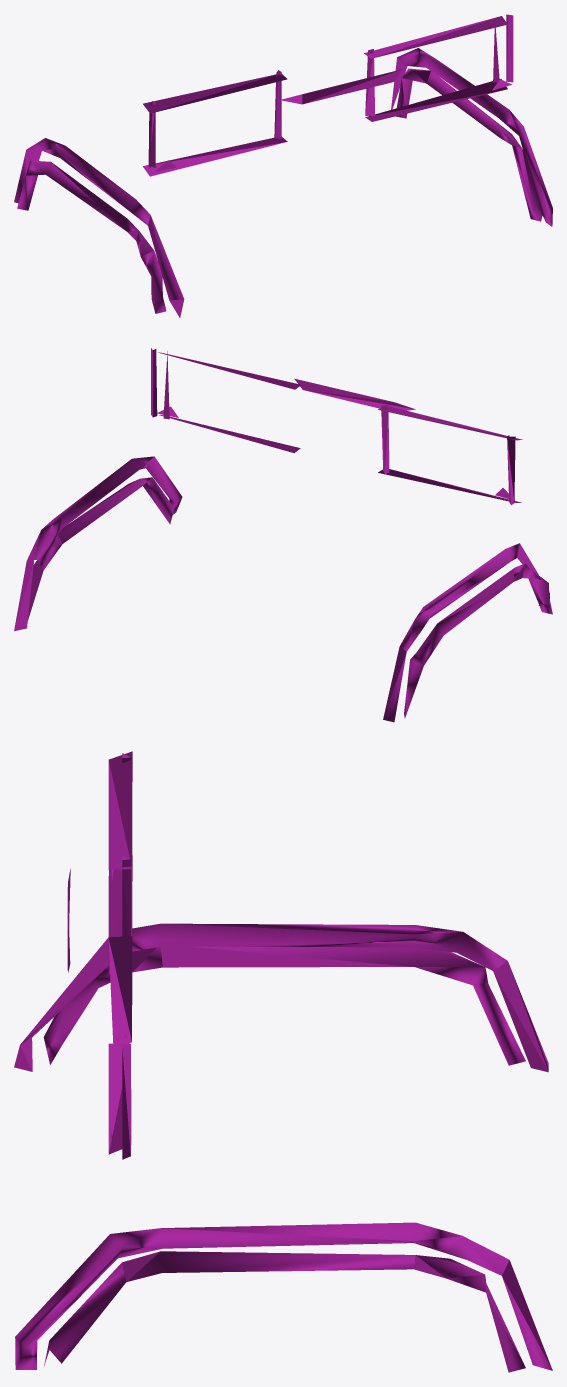
File: backdrop_top_c_lod2.glb
3 renders of one model, top to bottom at view 1: azimuth 30°, elevation 25°; view 2: azimuth 150°, elevation 25°; view 3: azimuth 270°, elevation 25°, orthographic. The views are drawn at different scales.
Bounding box in the file's own units: 59.11 × 27.79 × 42.43.
